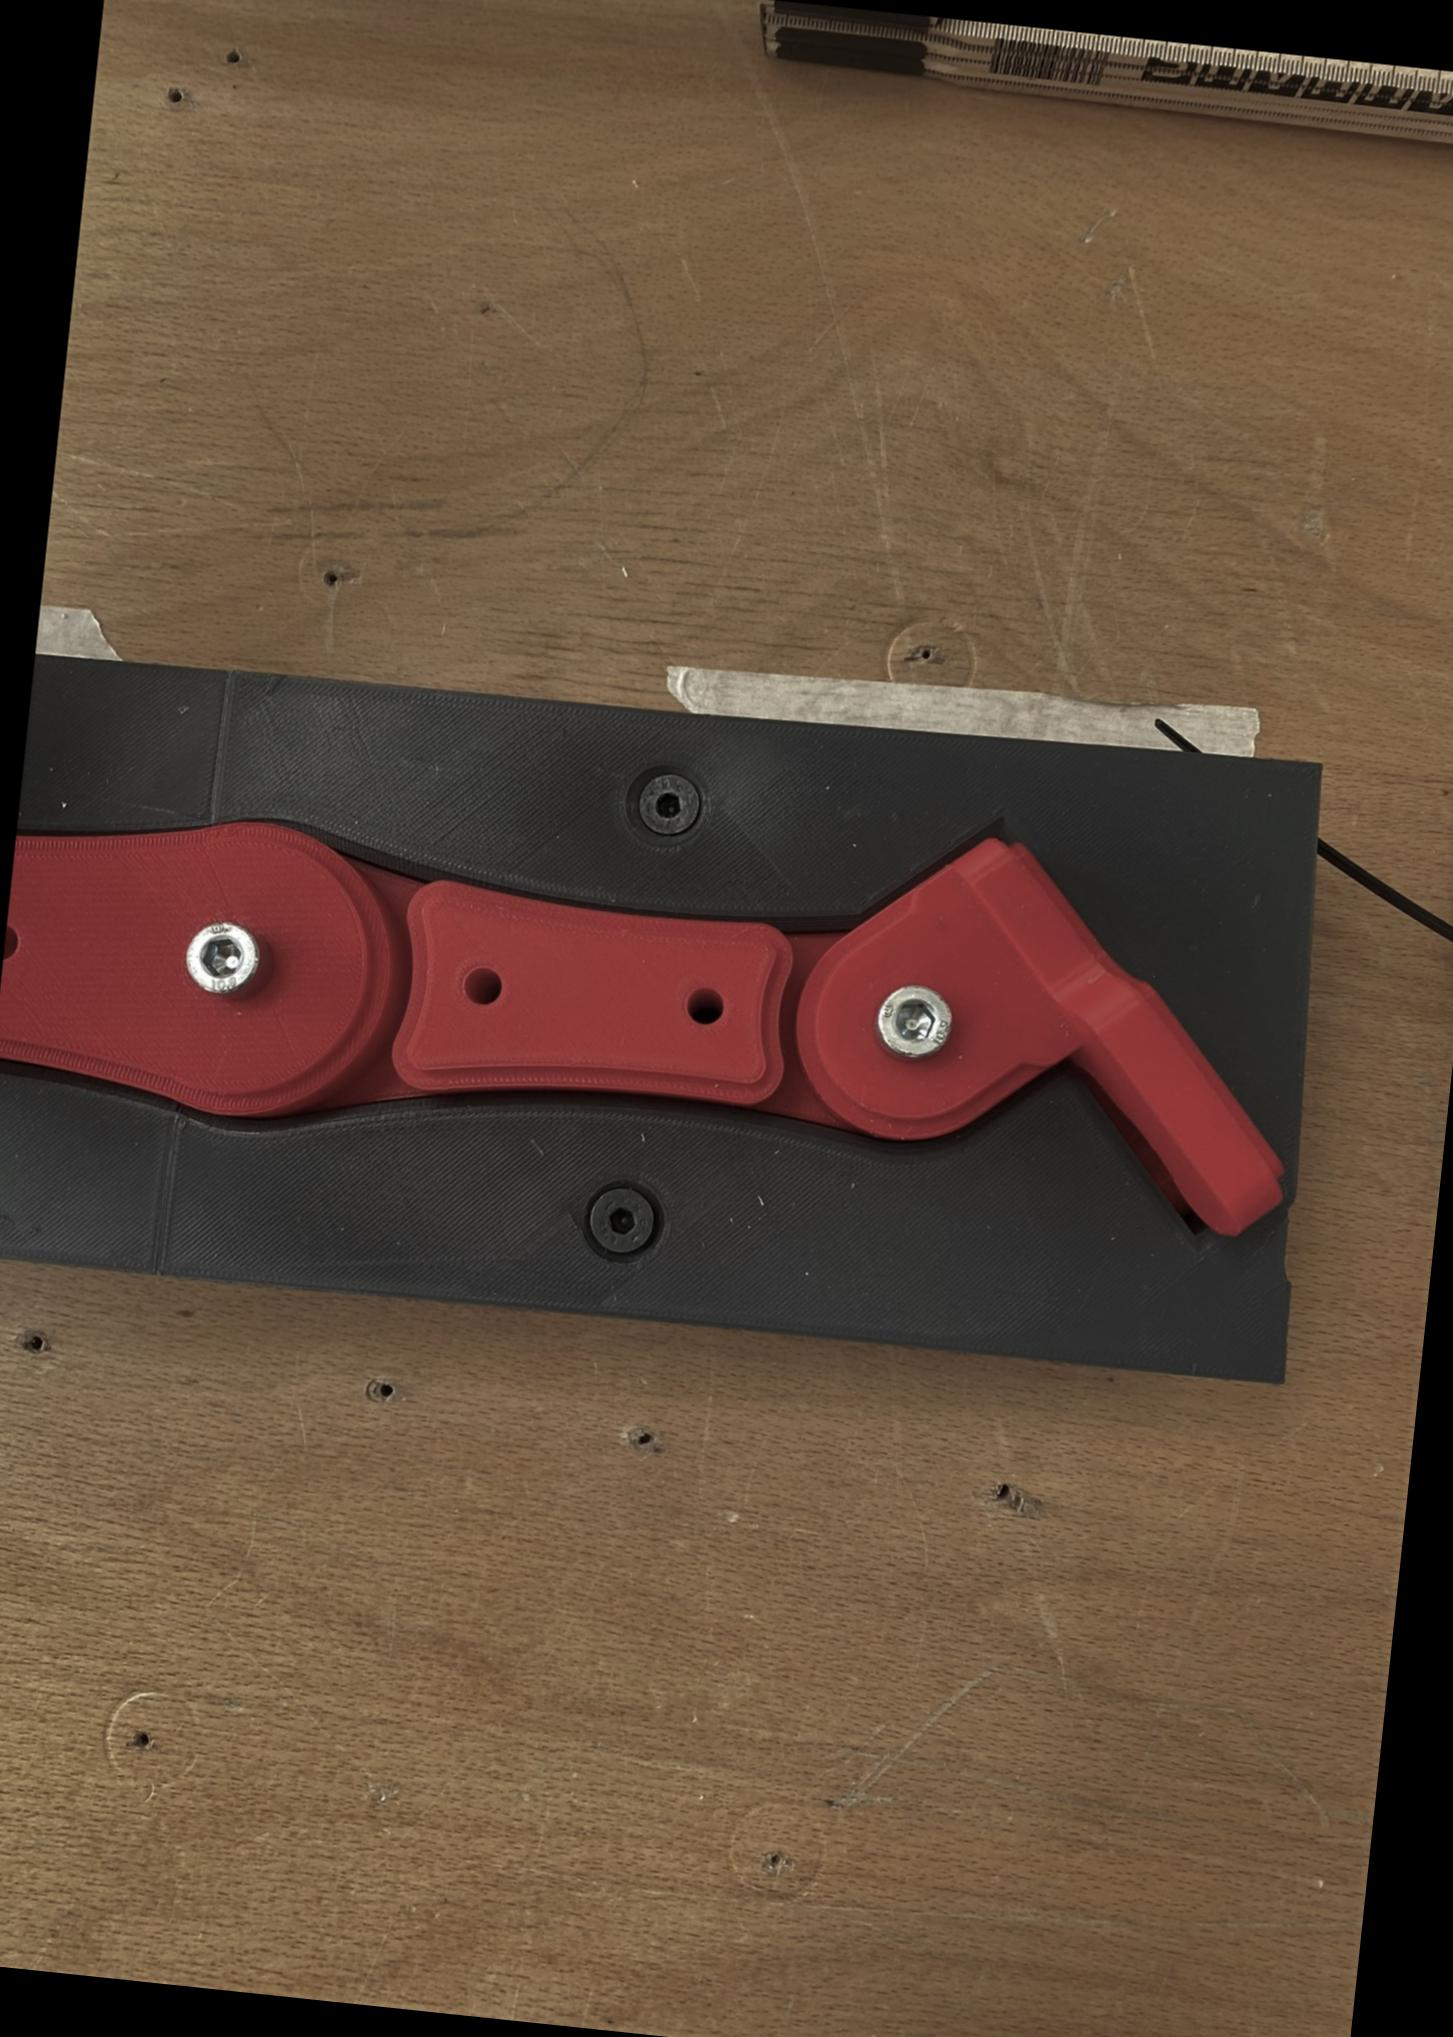H: (580, 1177, 665, 1262), (873, 979, 956, 1061), (182, 918, 261, 996), (629, 767, 708, 839)
